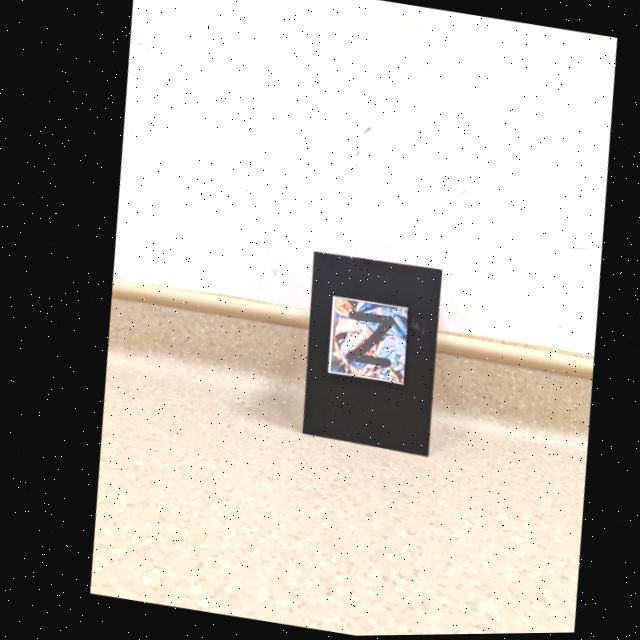Z: (338, 312, 387, 368)
